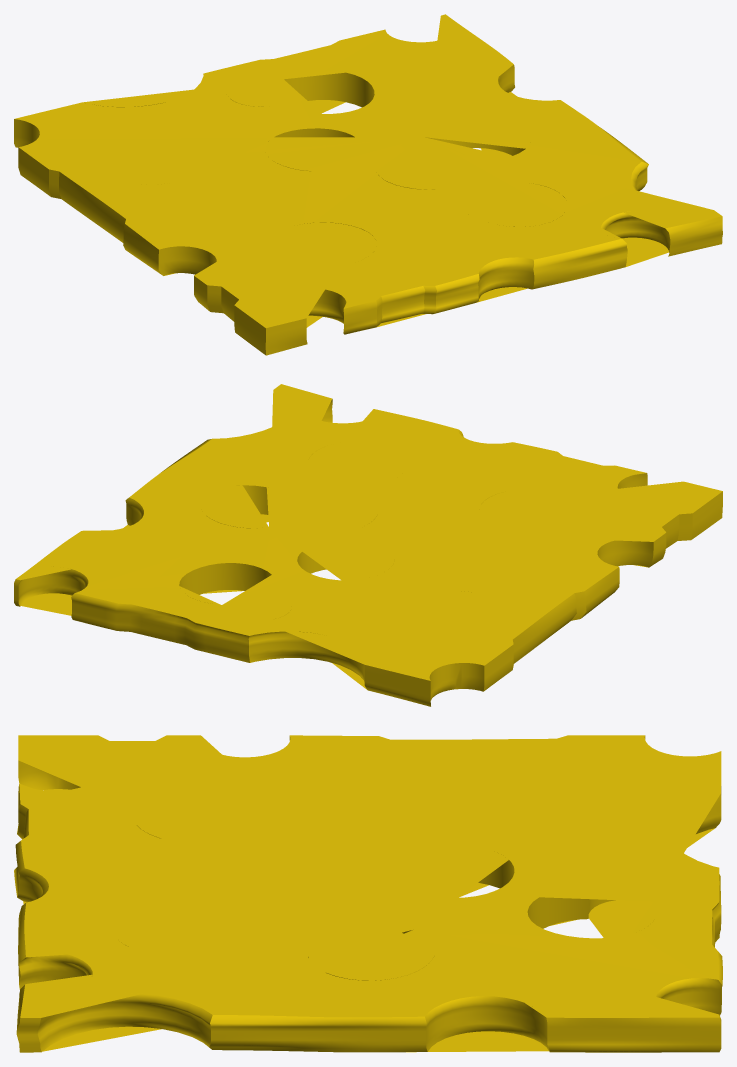
Rendered from Cheese3.fbx.
3 renders of one model, top to bottom at view 1: azimuth 30°, elevation 25°; view 2: azimuth 150°, elevation 25°; view 3: azimuth 270°, elevation 25°, orthographic. The views are drawn at different scales.
Parts seen in each view (by area): view 1: Cheese Slice 1; view 2: Cheese Slice 1; view 3: Cheese Slice 1.
Part boxes in pixels (x1,y1,x2,y2): Cheese Slice 1: (14,14,722,355); Cheese Slice 1: (14,384,722,706); Cheese Slice 1: (14,735,722,1052).
Size of the model in its own units: 260 by 15.44 by 273.
